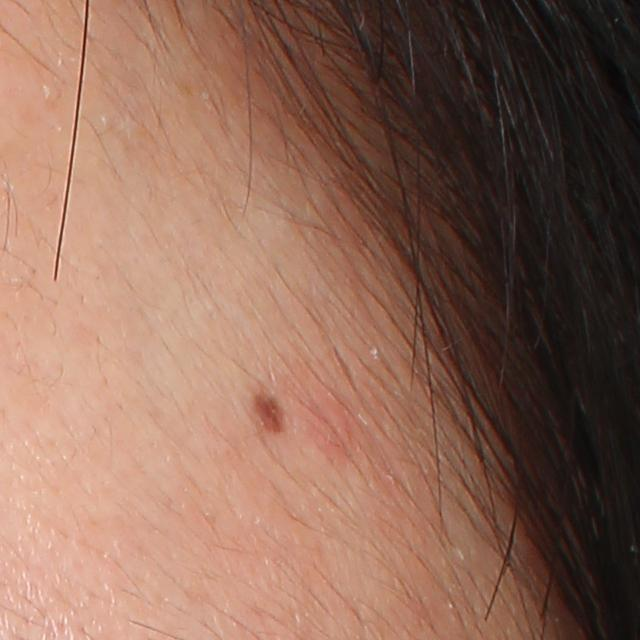nevus: (251, 389, 295, 436)
